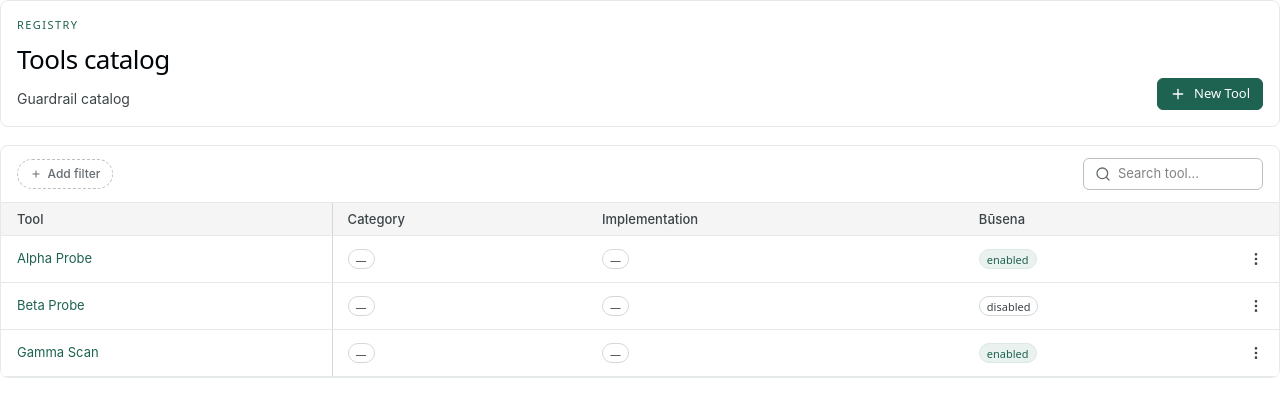
Scenario: RegistryCatalogSurface › keeps enabled tool filter membership when status labels are Lithuanian
The image size is (1280, 395).
Expected: the link "Alpha Probe" is shown, [17,250,92,266]
Click the button "Add filter". click: [65, 174]
box: [17,159,113,189]
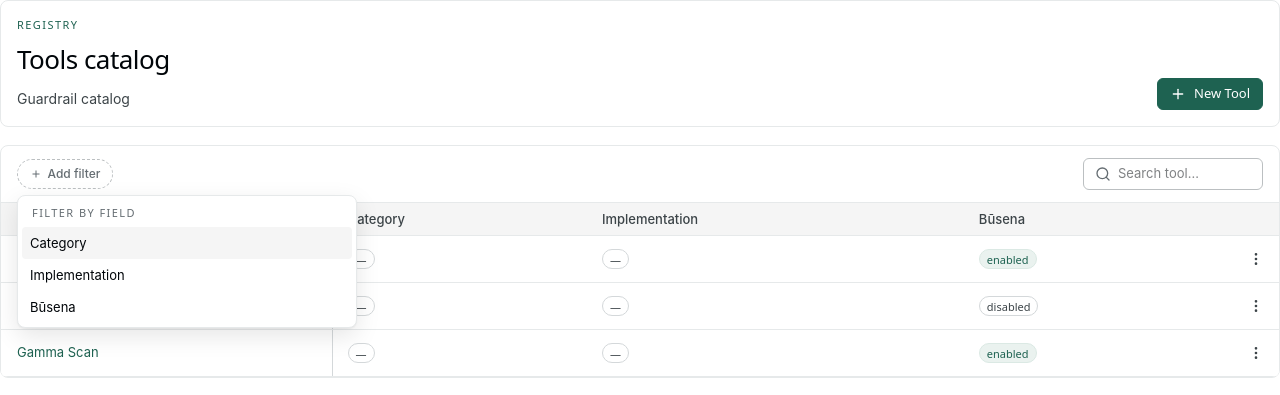
Click the menu item "Būsena". click: [53, 307]
box: [22,291,352,323]
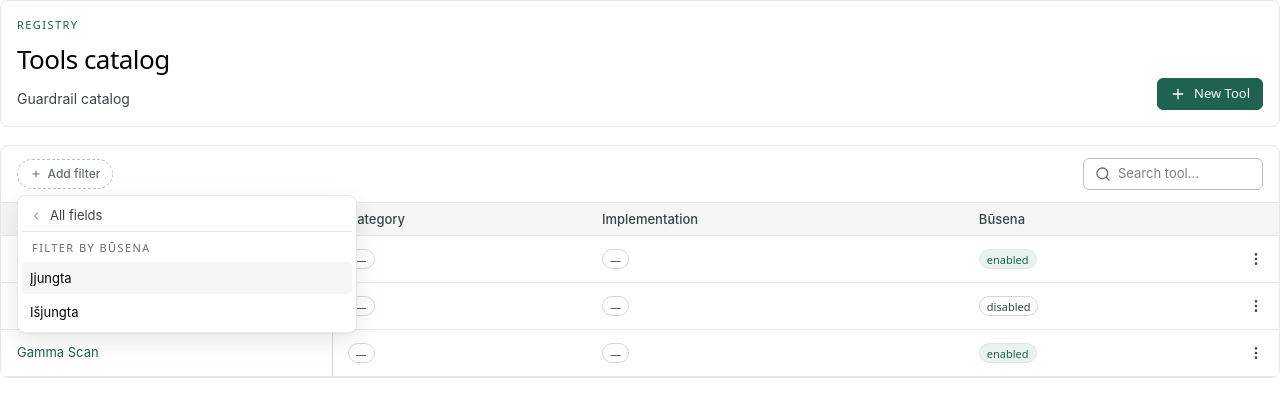
Click the menu item "Įjungta". click: [51, 278]
box: [22,262,352,294]
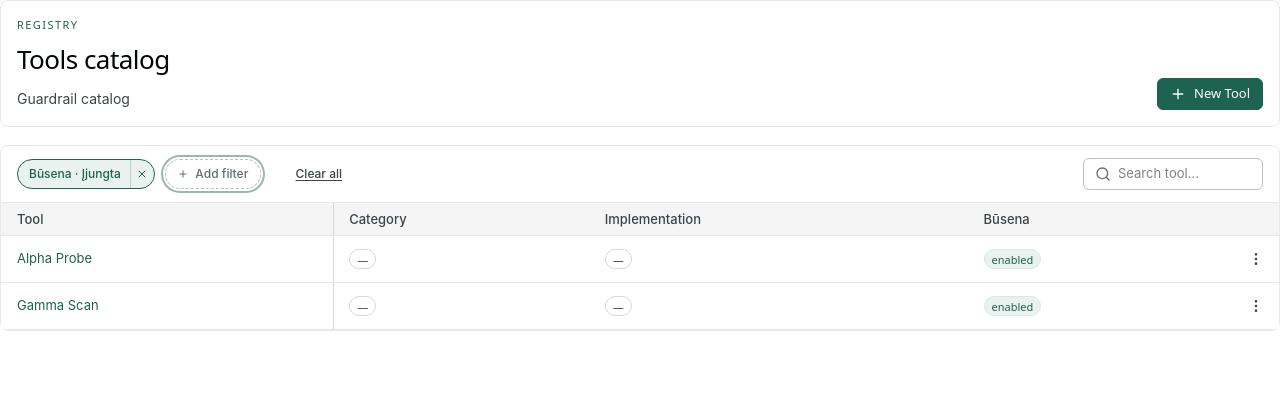
Expected: the link "Alpha Probe" is shown, [17,250,92,266]
Now the link "Beta Probe" is gone
